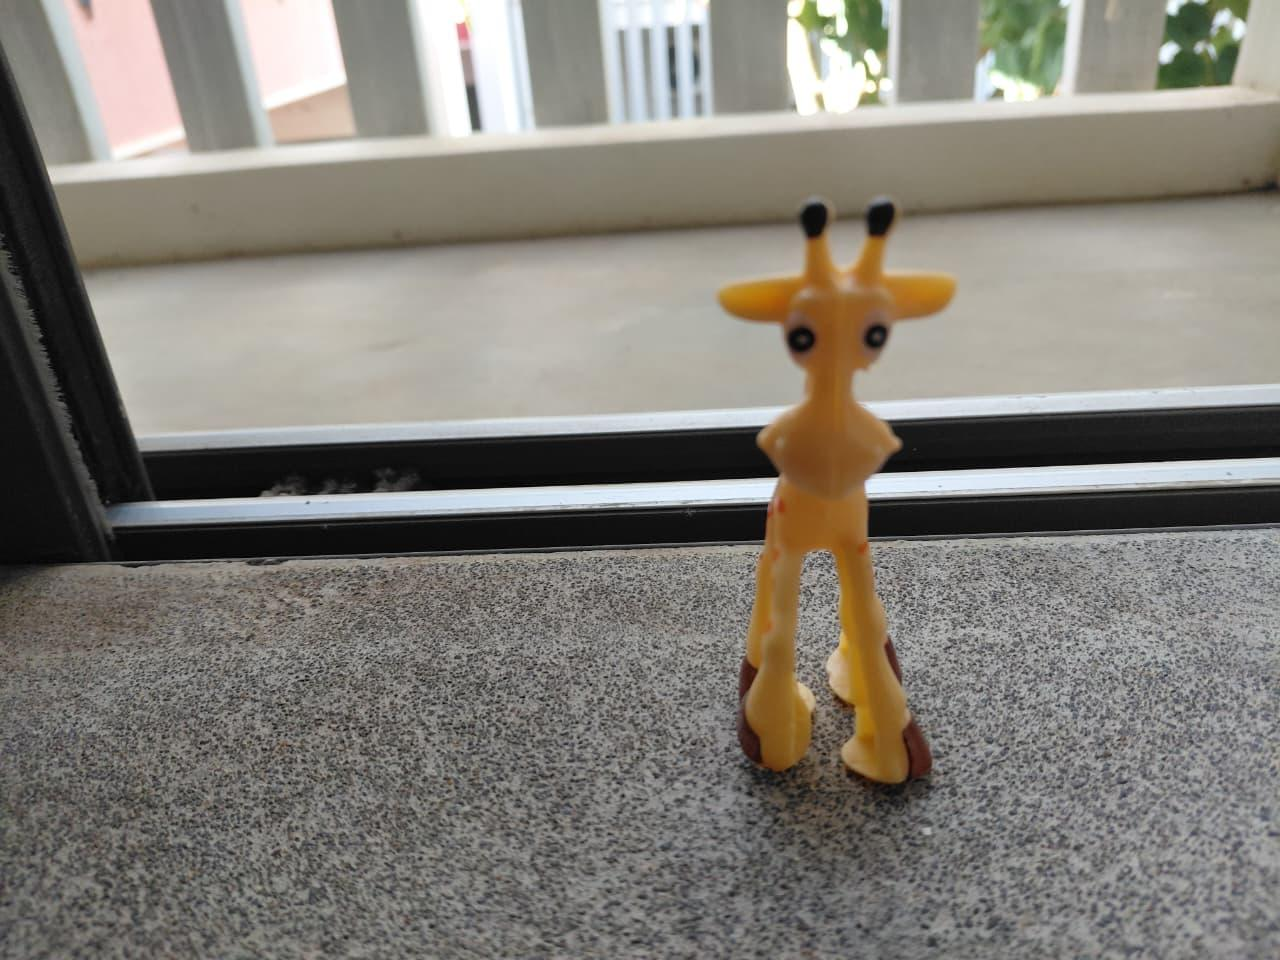giraffe: (688, 128, 1064, 847)
